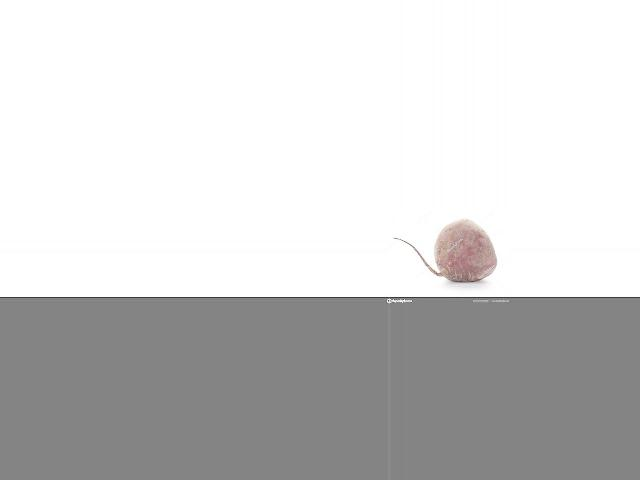beet: (393, 220, 497, 282)
